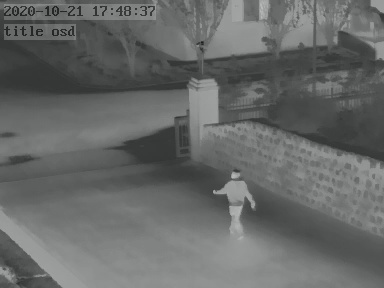person: (225, 168, 248, 236)
